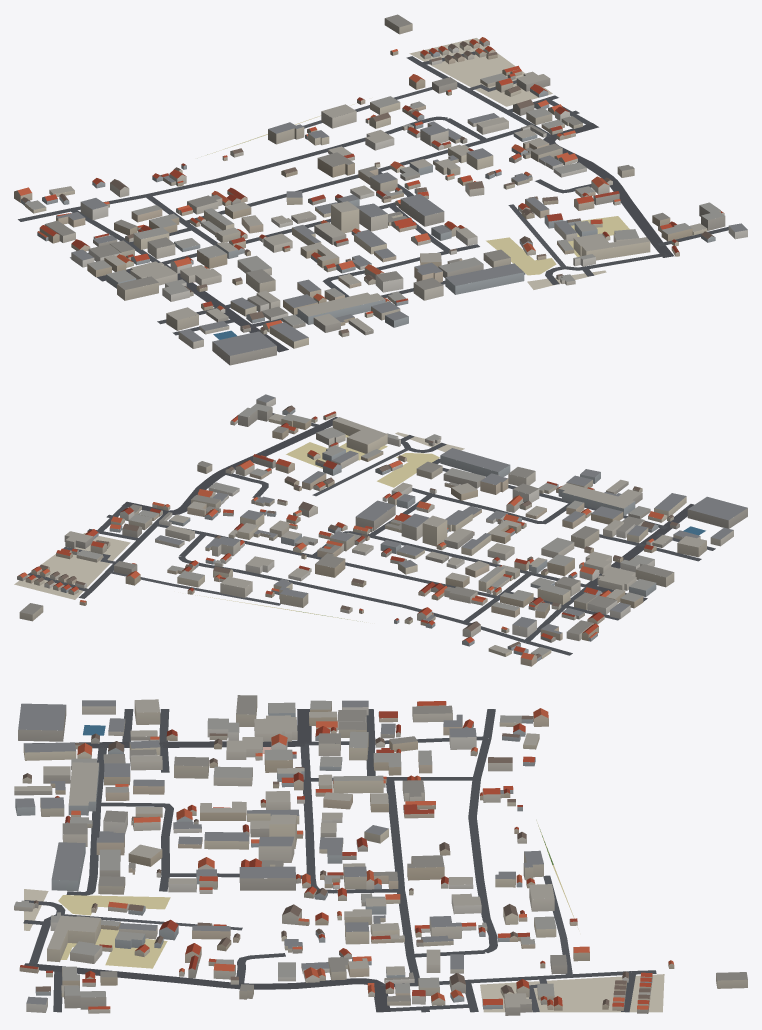
3 views of the same model, one above another, from view 1: azimuth 30°, elevation 25°; view 2: azimuth 150°, elevation 25°; view 3: azimuth 270°, elevation 25° (orthographic). The views are drawn at different scales.
Parts seen in each view (by area): view 1: buildings_walls, buildings_roofs, roads, landuse; view 2: buildings_walls, buildings_roofs, roads, landuse; view 3: buildings_roofs, buildings_walls, roads, landuse.
Part boxes in pixels (x1,y1,x2,y2): buildings_walls: (14,18,747,365); buildings_roofs: (17,14,747,355); roads: (18,49,728,352); landuse: (193,38,629,289); buildings_walls: (17,398,747,666); buildings_roofs: (18,394,747,659); roads: (27,413,715,655); landuse: (14,432,599,622); buildings_roofs: (14,695,747,1009); buildings_walls: (14,696,747,1015); roads: (23,709,656,1012); landuse: (24,747,664,1012).
Size of the model in its own units: 509 by 19.19 by 512.
